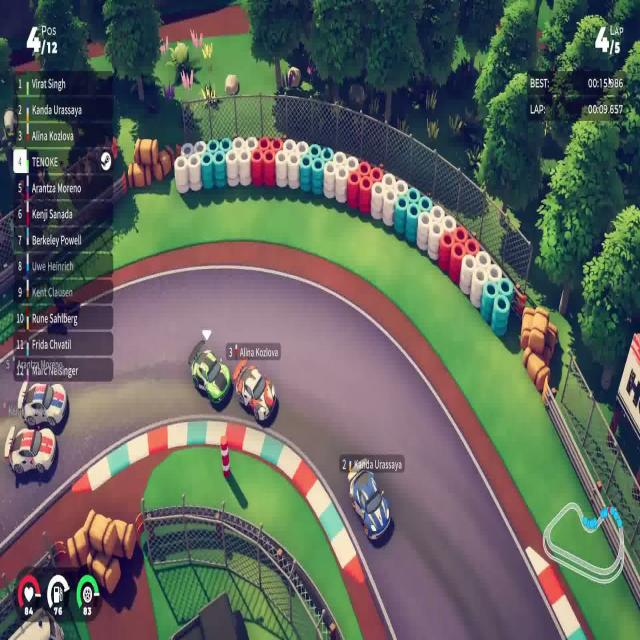car: (347, 466, 391, 542), (233, 359, 277, 424), (4, 424, 56, 477), (190, 347, 231, 408), (20, 380, 68, 430)
